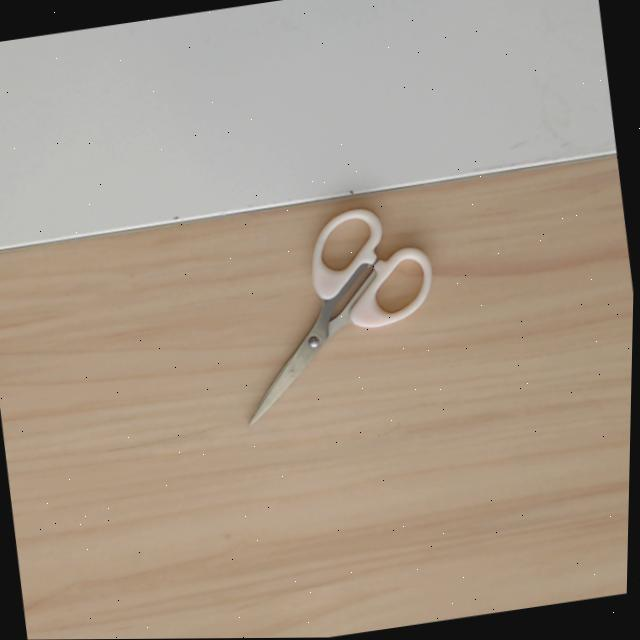Gunting: (248, 197, 448, 467)
